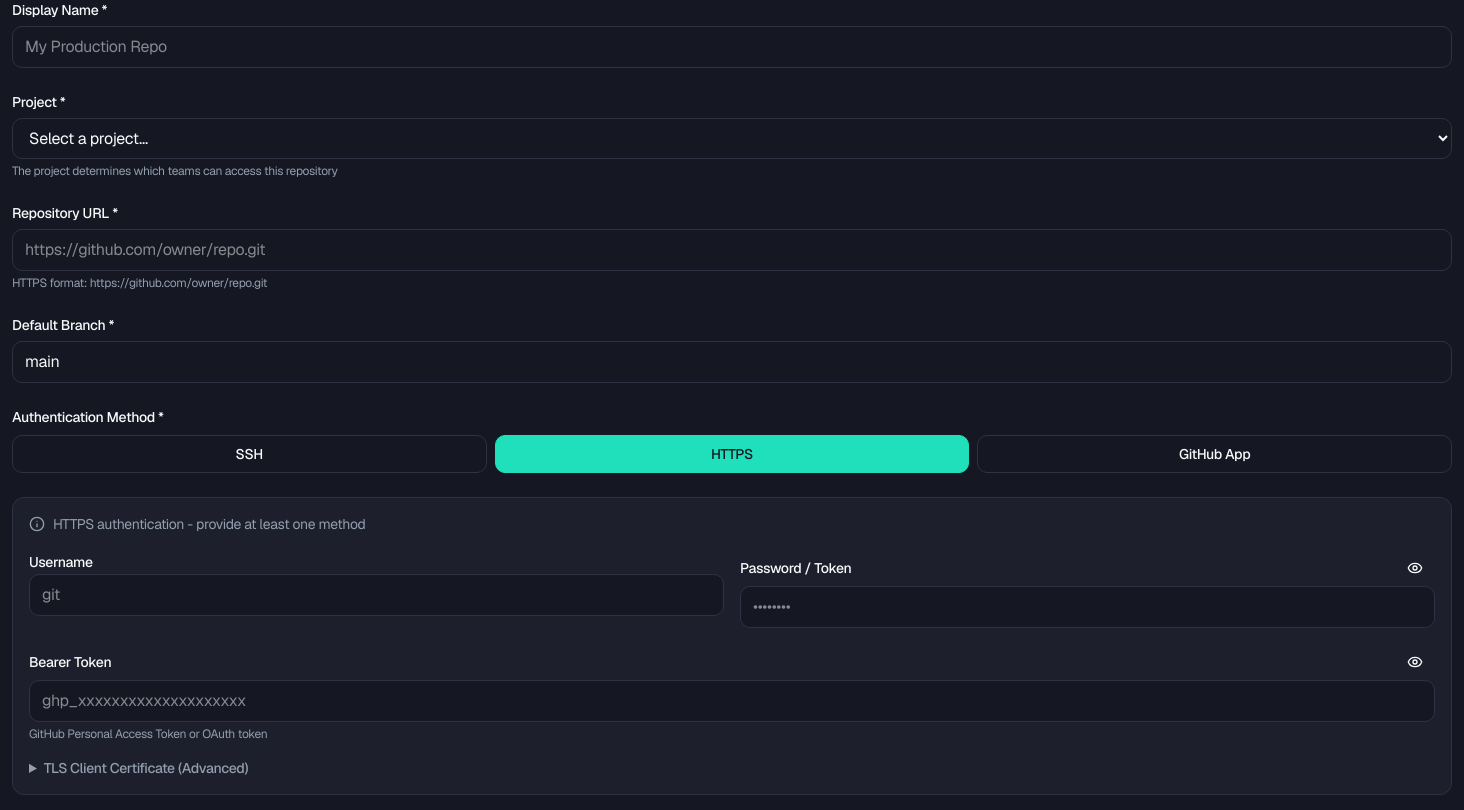
Test: RepositoryForm › HTTPS authentication fields › renders TLS advanced fields in collapsible section
Note: Click to expand
Click the heading "TLS Client Certificate (Advanced)".
click(146, 768)  # box x1=44 y1=759 x2=248 y2=777
(page scrolled)
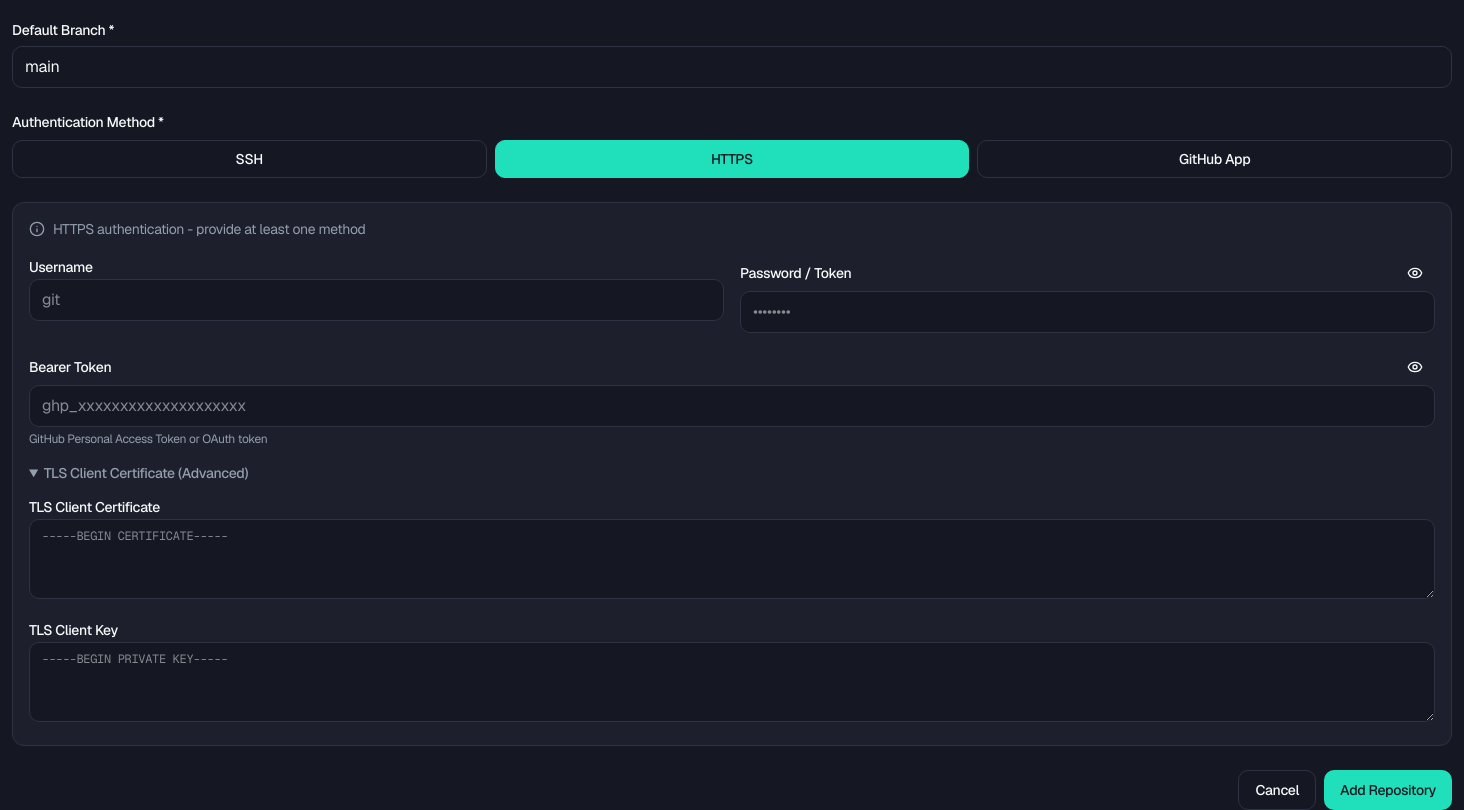
Expected: the text box labelled "TLS Client Certificate" is shown, x1=29 y1=519 x2=1435 y2=599
Expected: the text box labelled "TLS Client Key" is shown, x1=29 y1=642 x2=1435 y2=722
